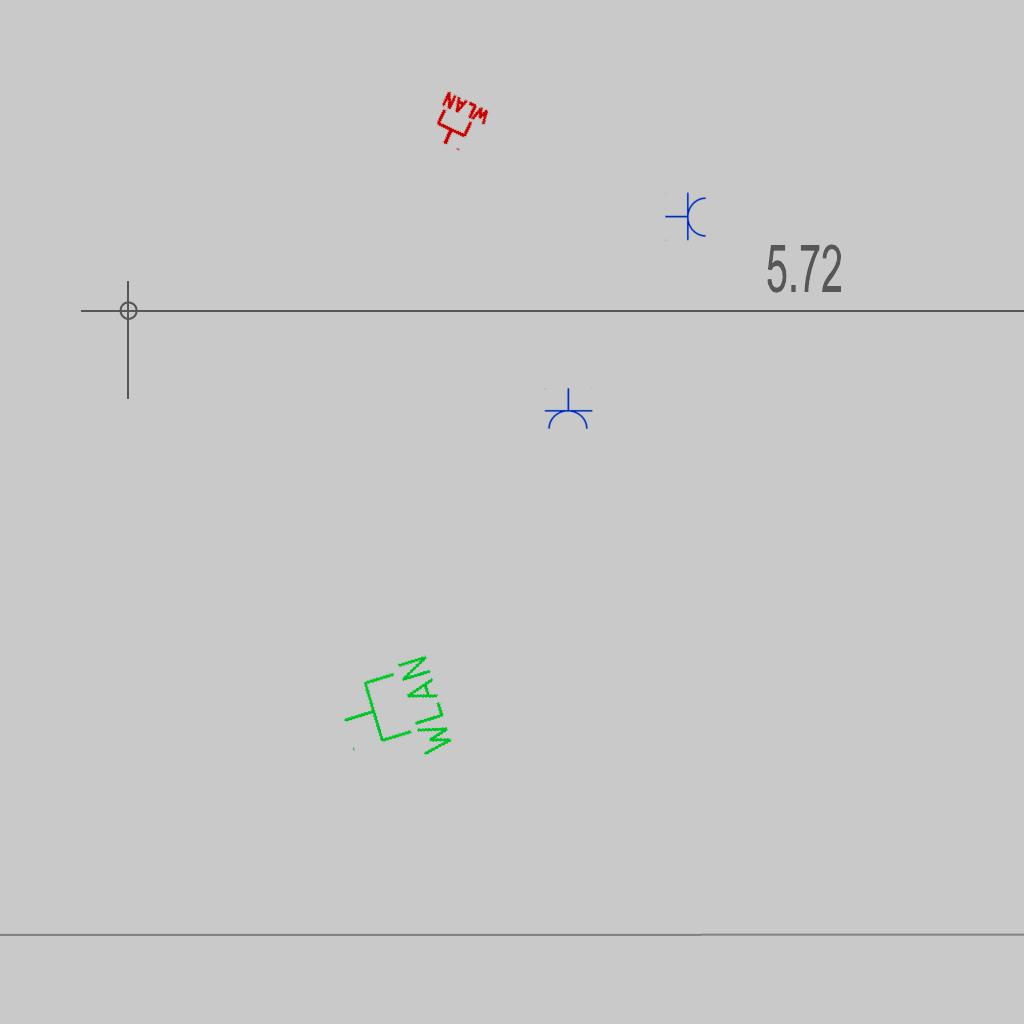Schukosteckdose_einfach: (543, 388, 593, 431), (665, 192, 708, 242)
WLAN: (328, 650, 460, 781), (424, 89, 494, 159)
